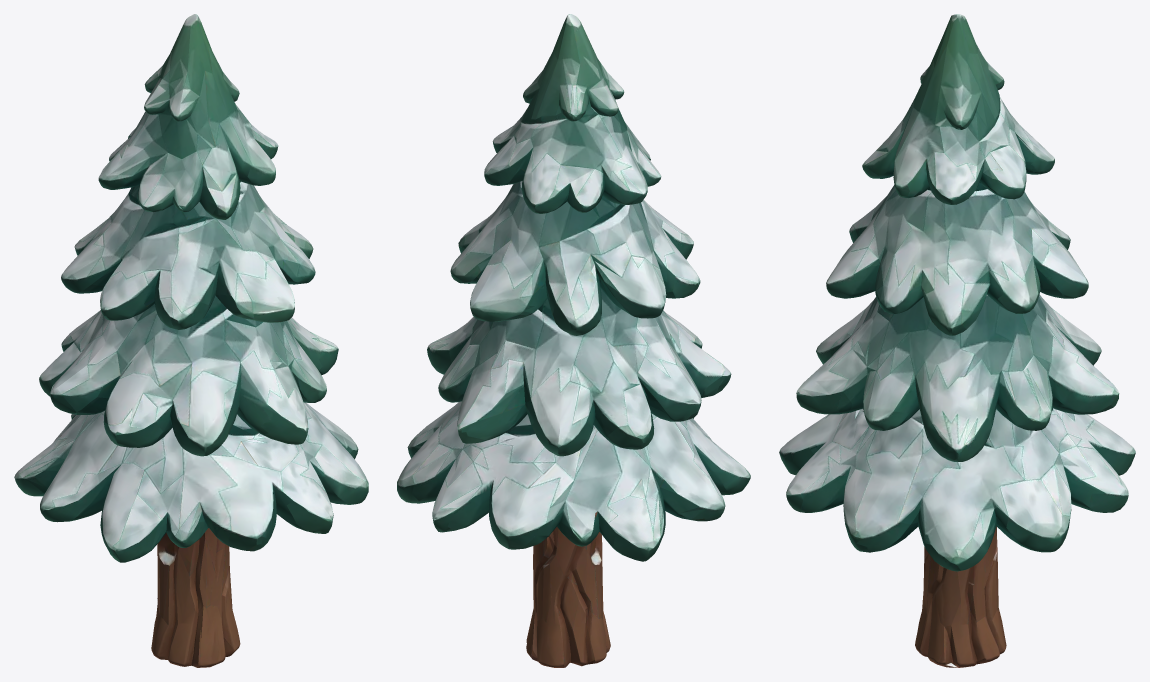
File: tree_pine_snow.glb
3 renders of one model, left to right at view 1: azimuth 30°, elevation 25°; view 2: azimuth 150°, elevation 25°; view 3: azimuth 270°, elevation 25°, orthographic.
Parts seen in each view (by area): view 1: output_unwrapped; view 2: output_unwrapped; view 3: output_unwrapped.
Boxes of the visible parts, <box> form: output_unwrapped: <box>14,14,368,667</box>; output_unwrapped: <box>397,14,750,667</box>; output_unwrapped: <box>779,14,1135,667</box>.
Size of the model in its own units: 0.9851 by 1.9 by 0.964.
1 material, 1 textured.
